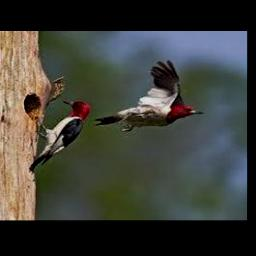Woodpecker: (94, 60, 204, 132), (29, 100, 92, 172)
